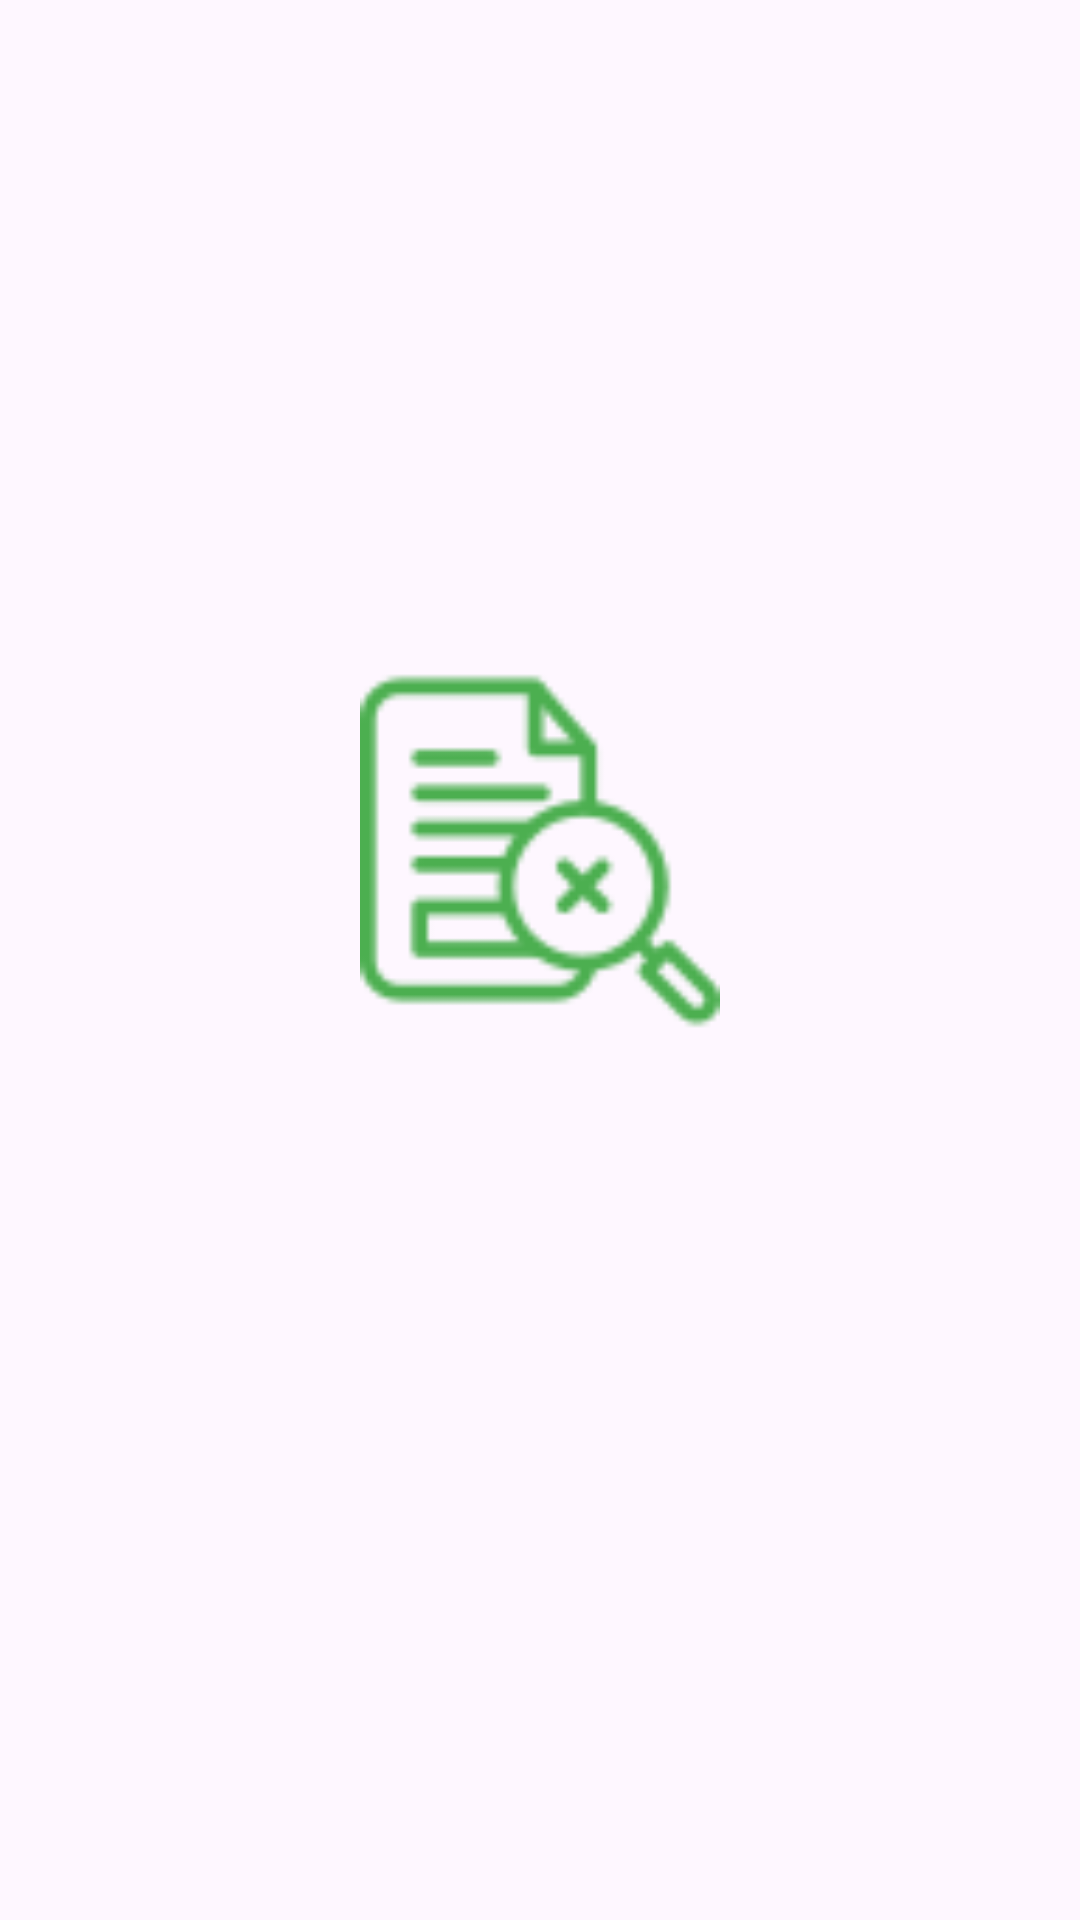

Named icons in this screenshot (1080w x 1920h) and their bounding boxes, (x1, y1, x2, y2):
no data: (360, 675, 720, 1027)
